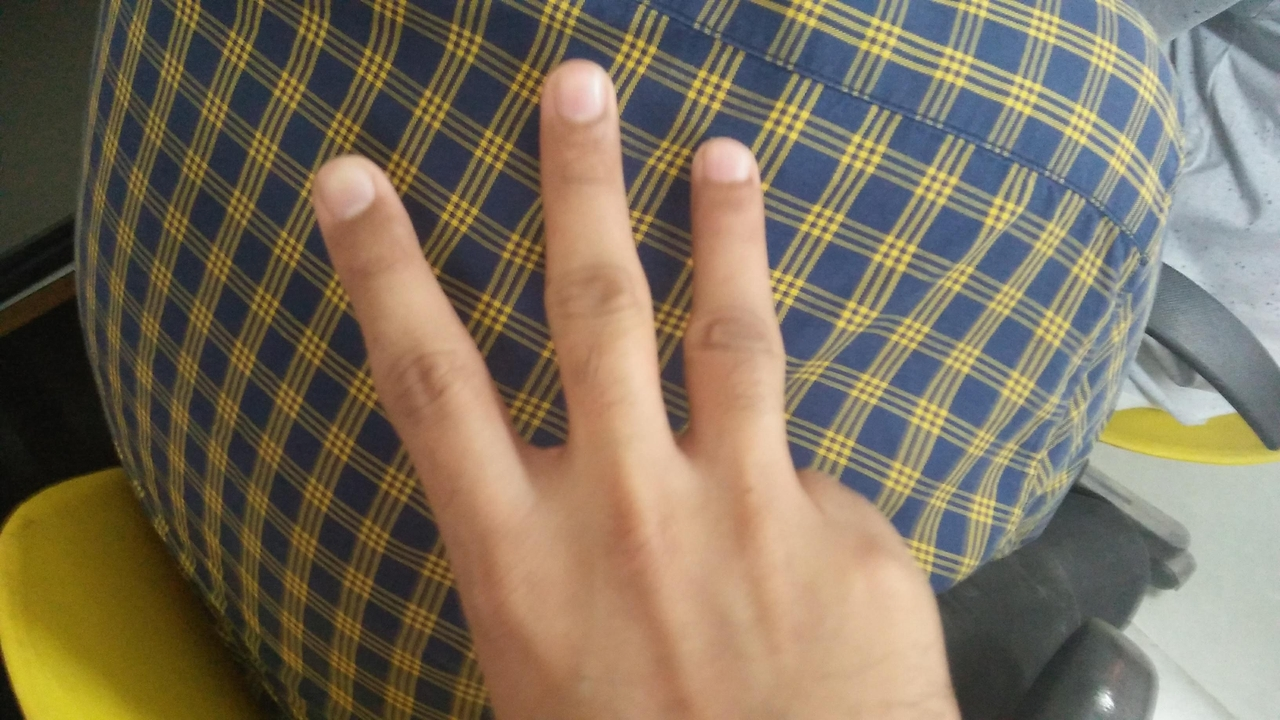fingertip: (298, 150, 398, 228), (538, 52, 620, 134), (686, 130, 770, 206)
